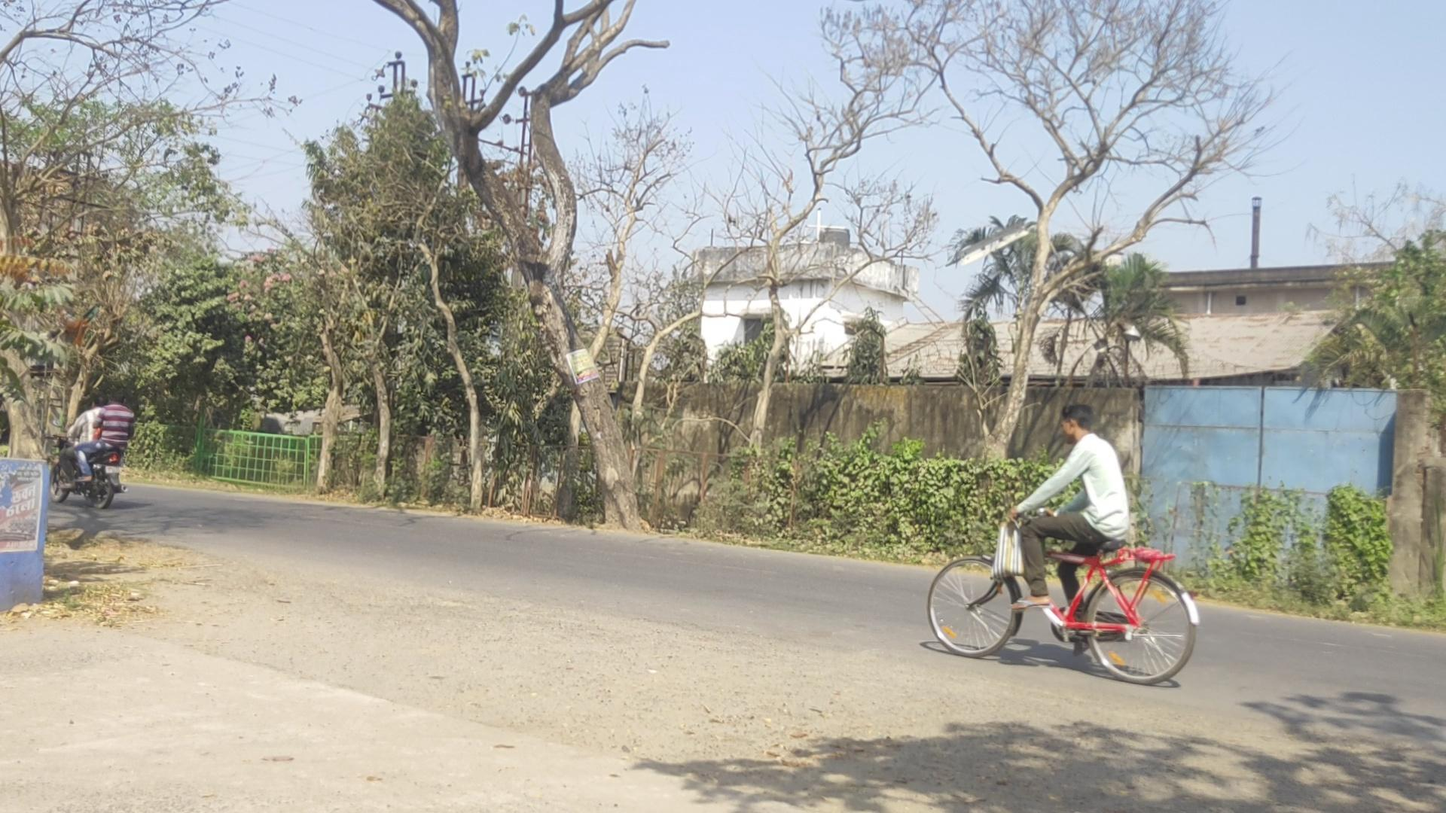bike: (927, 403, 1200, 684), (44, 390, 133, 510)
